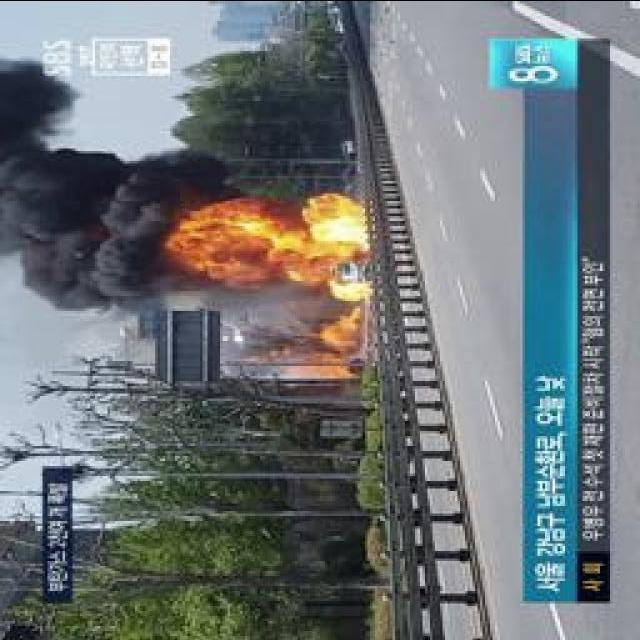Fire: (178, 194, 366, 280), (322, 314, 364, 346), (338, 282, 370, 300)
